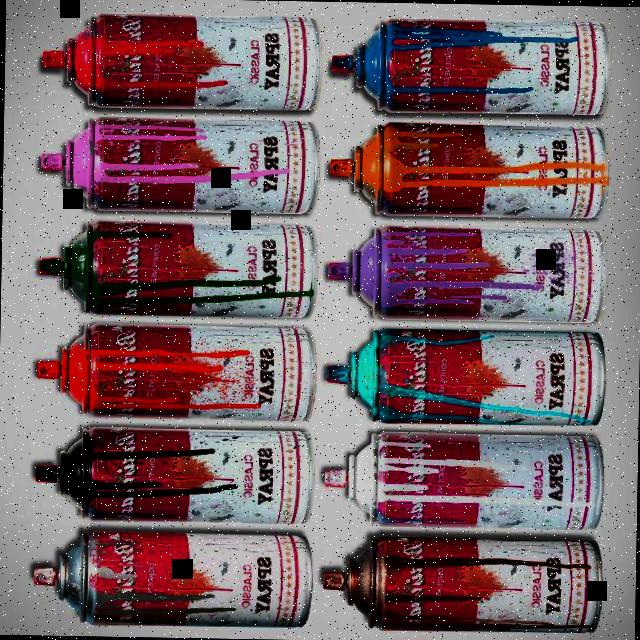chemical_spray_can: (324, 432, 603, 529), (323, 536, 602, 633), (36, 323, 314, 420), (328, 225, 606, 322), (40, 115, 317, 212), (326, 328, 605, 424), (34, 427, 312, 523), (33, 531, 311, 627), (332, 17, 610, 113), (330, 121, 608, 217), (42, 12, 319, 108), (38, 221, 315, 316)
